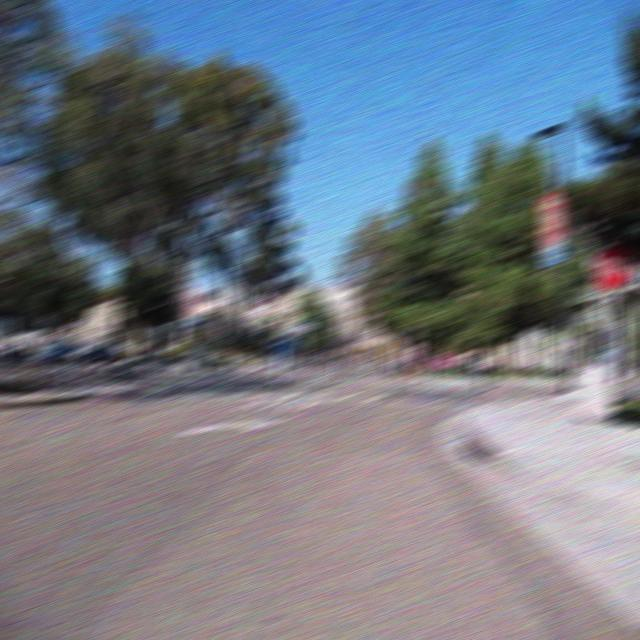stop: (590, 243, 633, 290)
